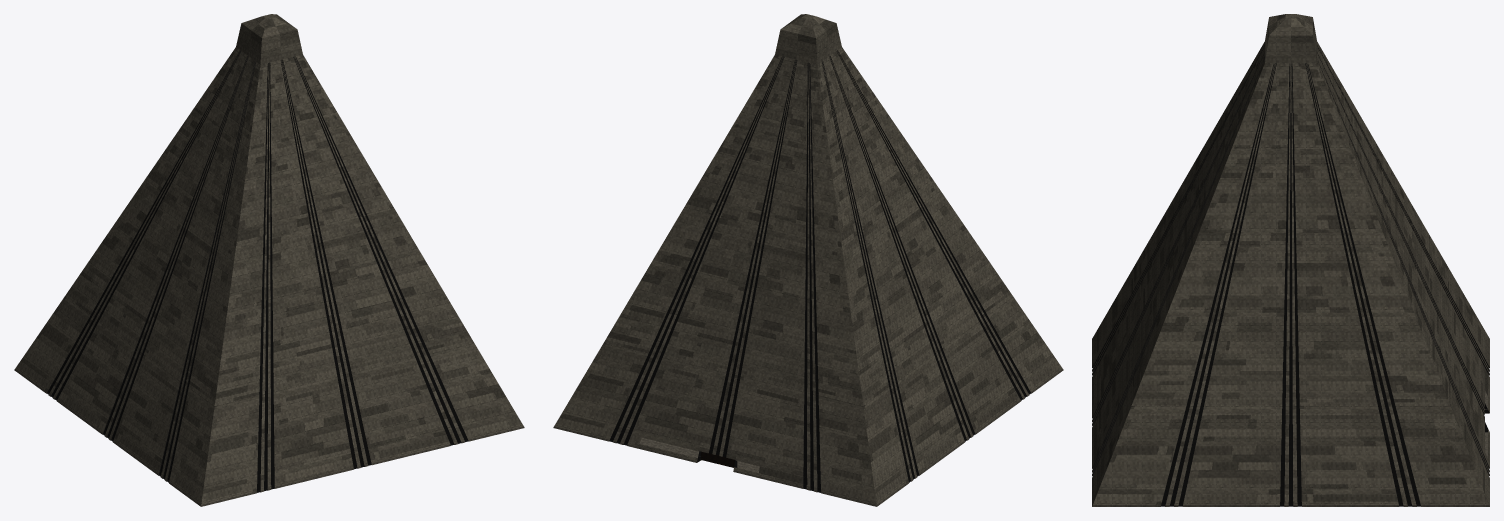
The model's file is wallace-medium.glb.
The picture shows the model from 3 angles, left to right: view 1: azimuth 30°, elevation 25°; view 2: azimuth 150°, elevation 25°; view 3: azimuth 270°, elevation 25°; orthographic projection. The views are drawn at different scales.
Visible parts, largest first — view 1: wallace; view 2: wallace; view 3: wallace.
Part boxes in pixels (bbox=[...]): wallace: bbox=[14, 14, 524, 506]; wallace: bbox=[553, 14, 1063, 506]; wallace: bbox=[1092, 14, 1489, 506].
Bounding box in the file's own units: 3200 × 3610 × 3200.
Materials: 3 (1 with a texture image).
